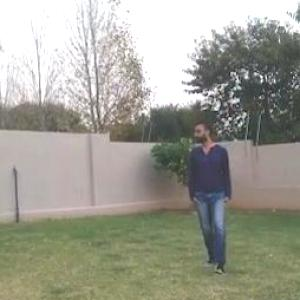follow: (196, 124, 232, 265)
